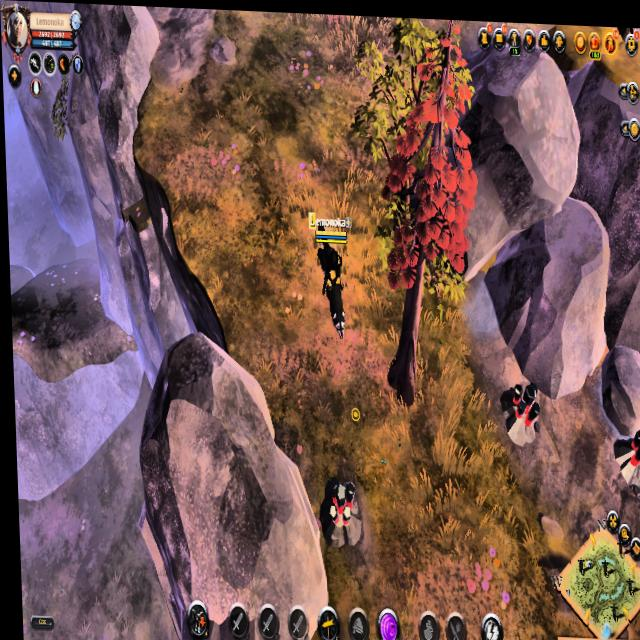ore tier 5: (313, 471, 361, 548), (497, 371, 540, 442), (609, 421, 640, 495)
wood tier 5: (375, 13, 483, 295)
